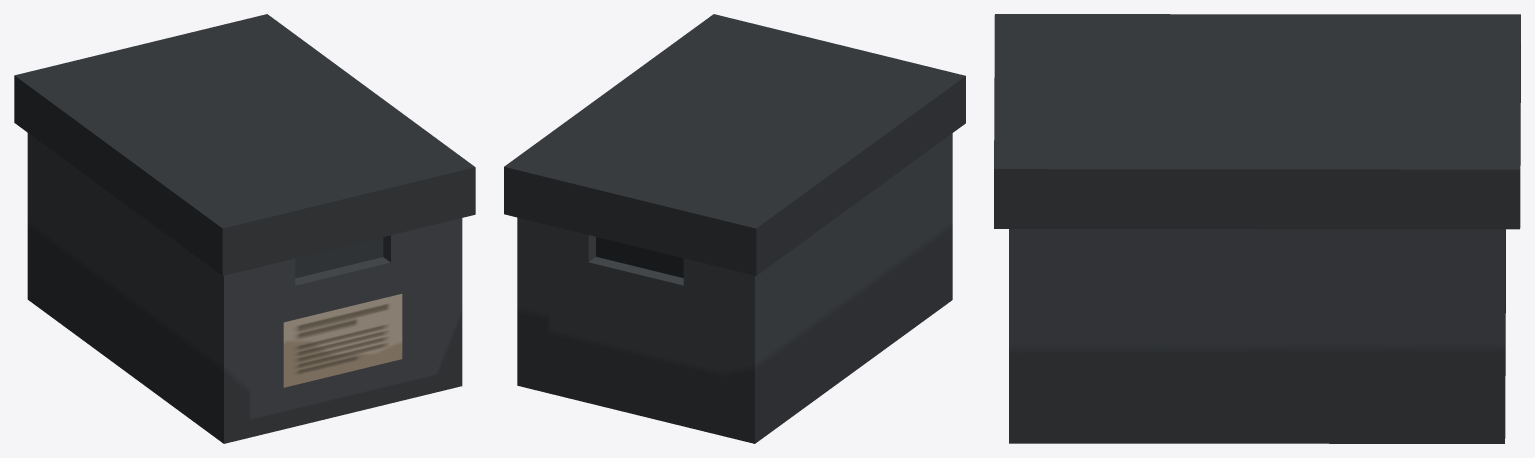
Rendered from SM_Prop_CardboardBox_02.fbx.
The picture shows the model from 3 angles, left to right: view 1: azimuth 30°, elevation 25°; view 2: azimuth 150°, elevation 25°; view 3: azimuth 270°, elevation 25°; orthographic projection. The views are drawn at different scales.
Parts seen in each view (by area): view 1: SM_Prop_CardboardBox_02; view 2: SM_Prop_CardboardBox_02; view 3: SM_Prop_CardboardBox_02.
Boxes of the visible parts, x1=… form: SM_Prop_CardboardBox_02: x1=14, y1=14, x2=475, y2=443; SM_Prop_CardboardBox_02: x1=504, y1=14, x2=965, y2=443; SM_Prop_CardboardBox_02: x1=994, y1=14, x2=1520, y2=443.
Size of the model in its own units: 32.96 by 27.54 by 47.17.
Materials: 1 (1 with a texture image).
